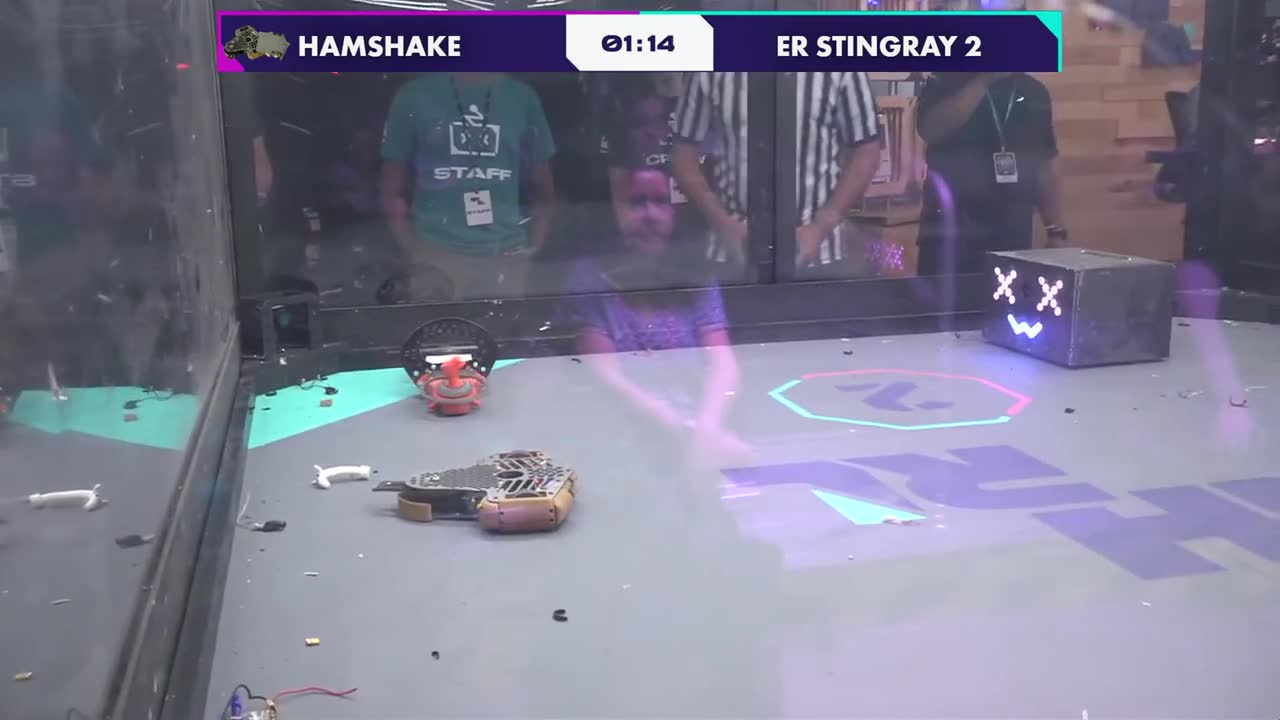combatbot: (364, 450, 581, 539), (402, 320, 494, 417), (222, 682, 359, 718)
debris: (225, 681, 358, 716), (312, 463, 373, 488), (245, 515, 289, 536)
housebot: (983, 246, 1176, 370)
